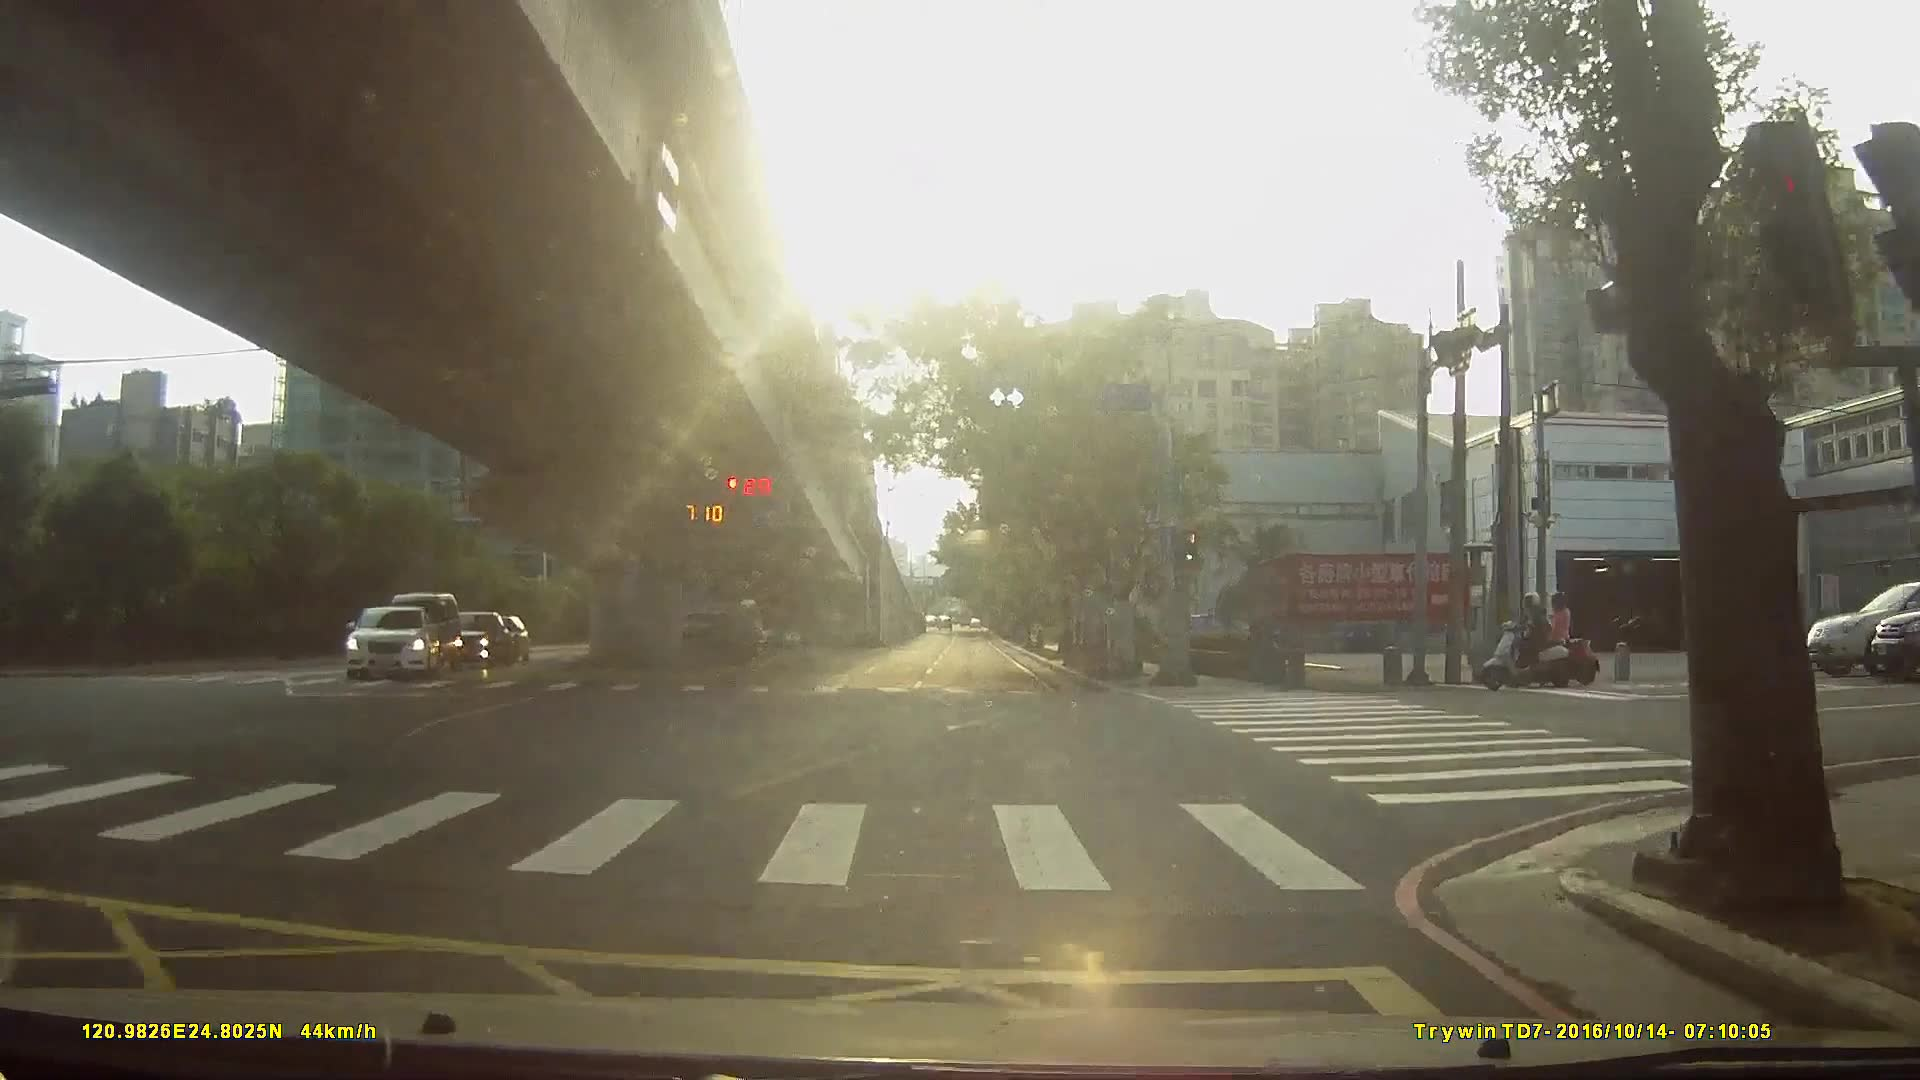rider: (1481, 590, 1572, 689)
vehicle: (1814, 585, 1920, 681), (336, 604, 433, 682), (653, 609, 761, 671), (436, 608, 512, 669)
